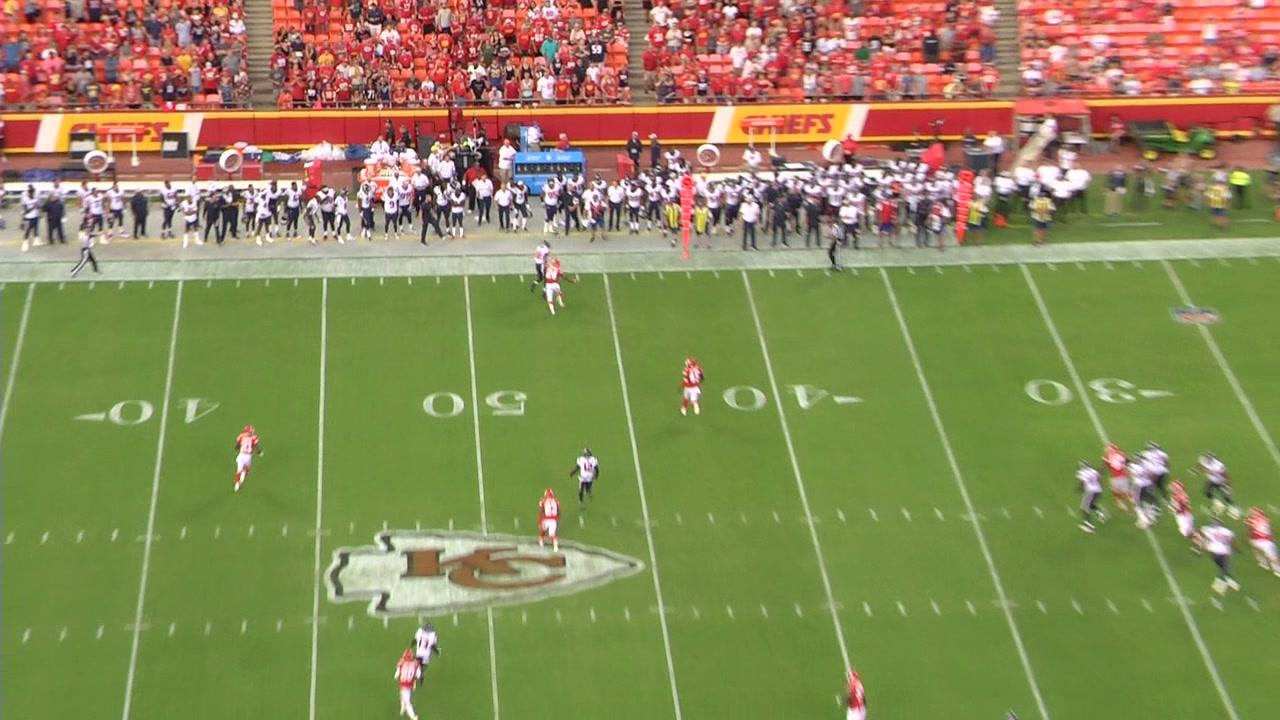number: (107, 389, 226, 434), (1021, 373, 1142, 412), (720, 378, 831, 415), (419, 388, 533, 420)
